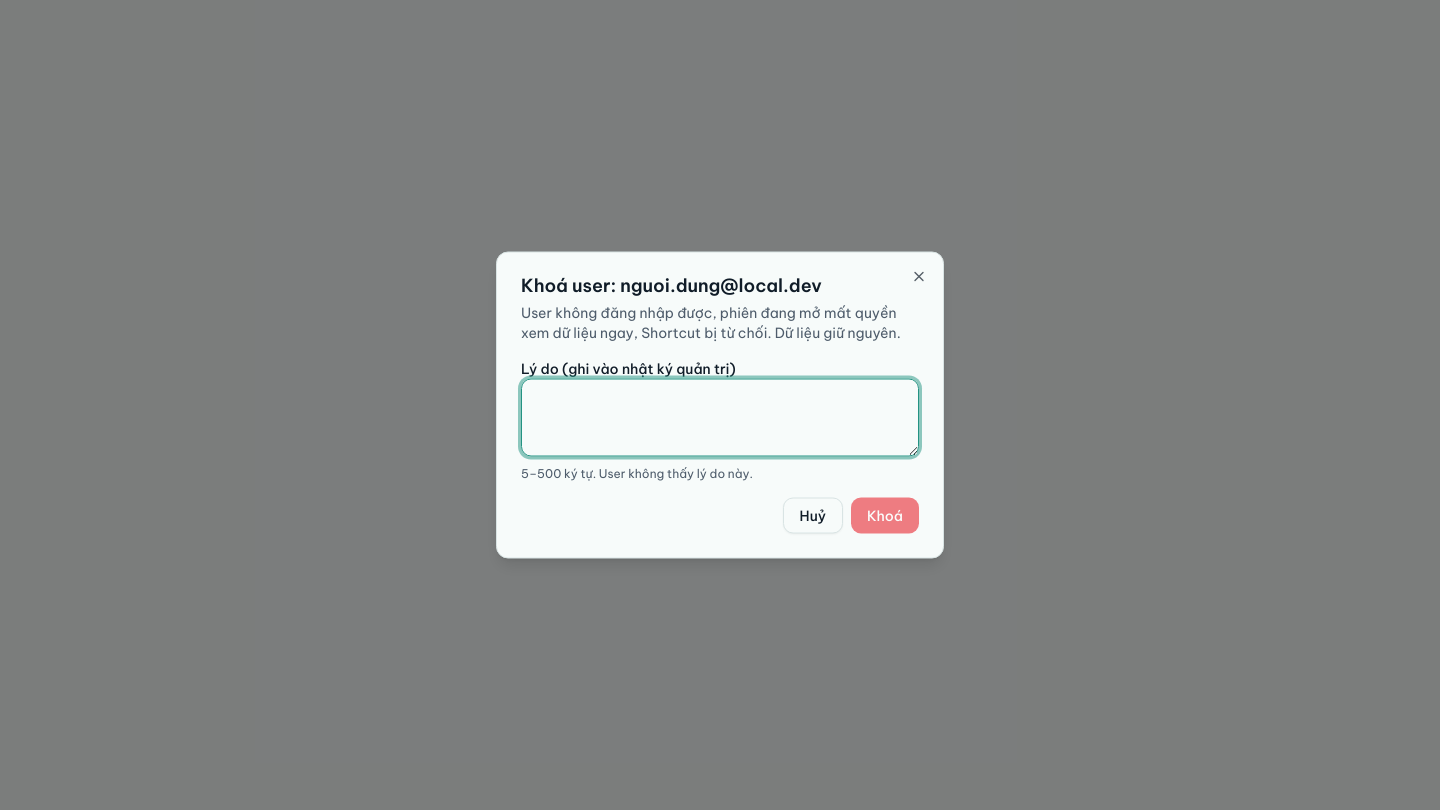
Test case: AdminActionDialog — gửi › ban_failed -> hiện thông điệp lỗi trong dialog, KHÔNG đóng, nút vẫn dùng được để bấm lại
Type "lý do đủ dài" into the text box labelled "Lý do (ghi vào nhật ký quản trị)" at (720, 418), box x1=521 y1=378 x2=919 y2=456
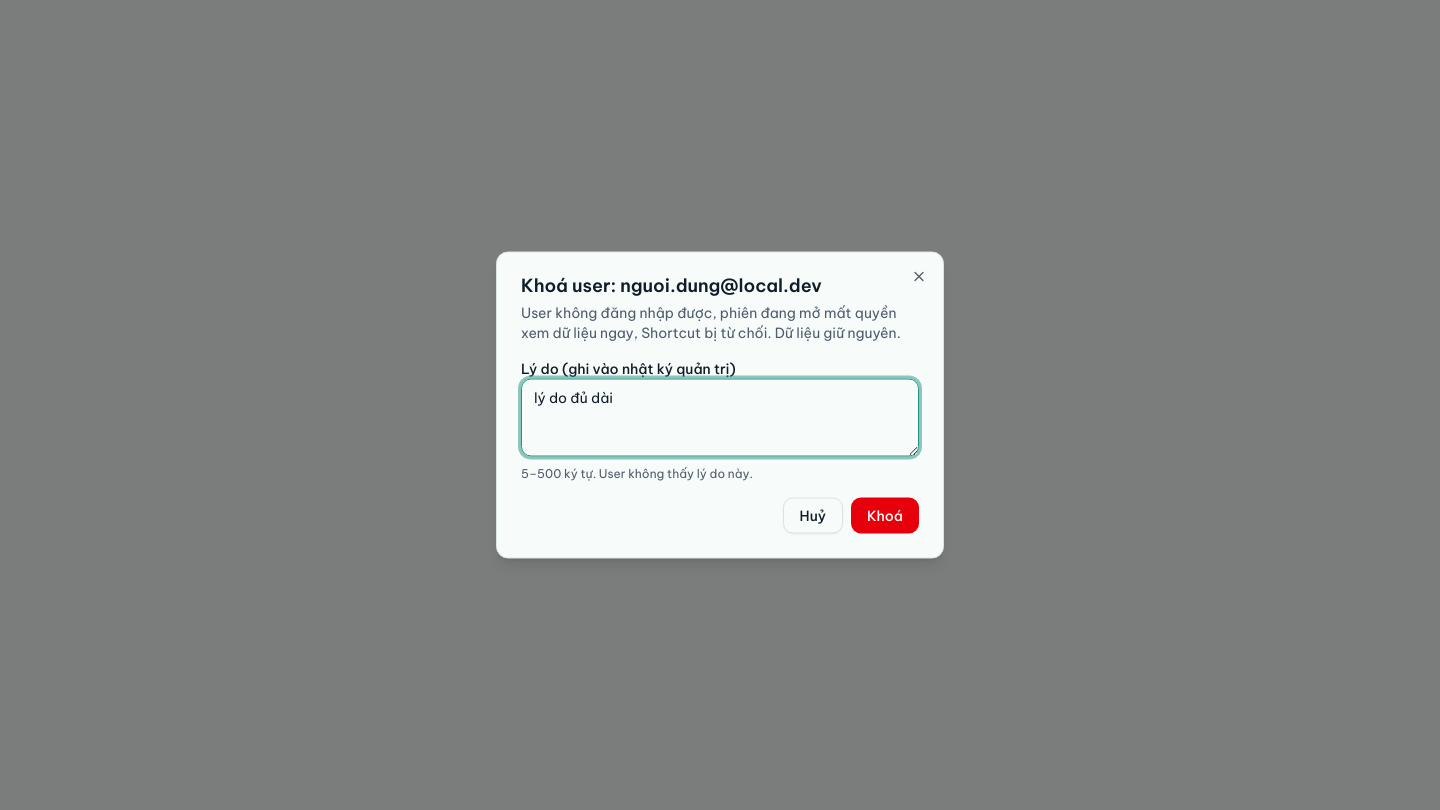
Click the button "Khoá" at (885, 516), box x1=851 y1=498 x2=919 y2=534
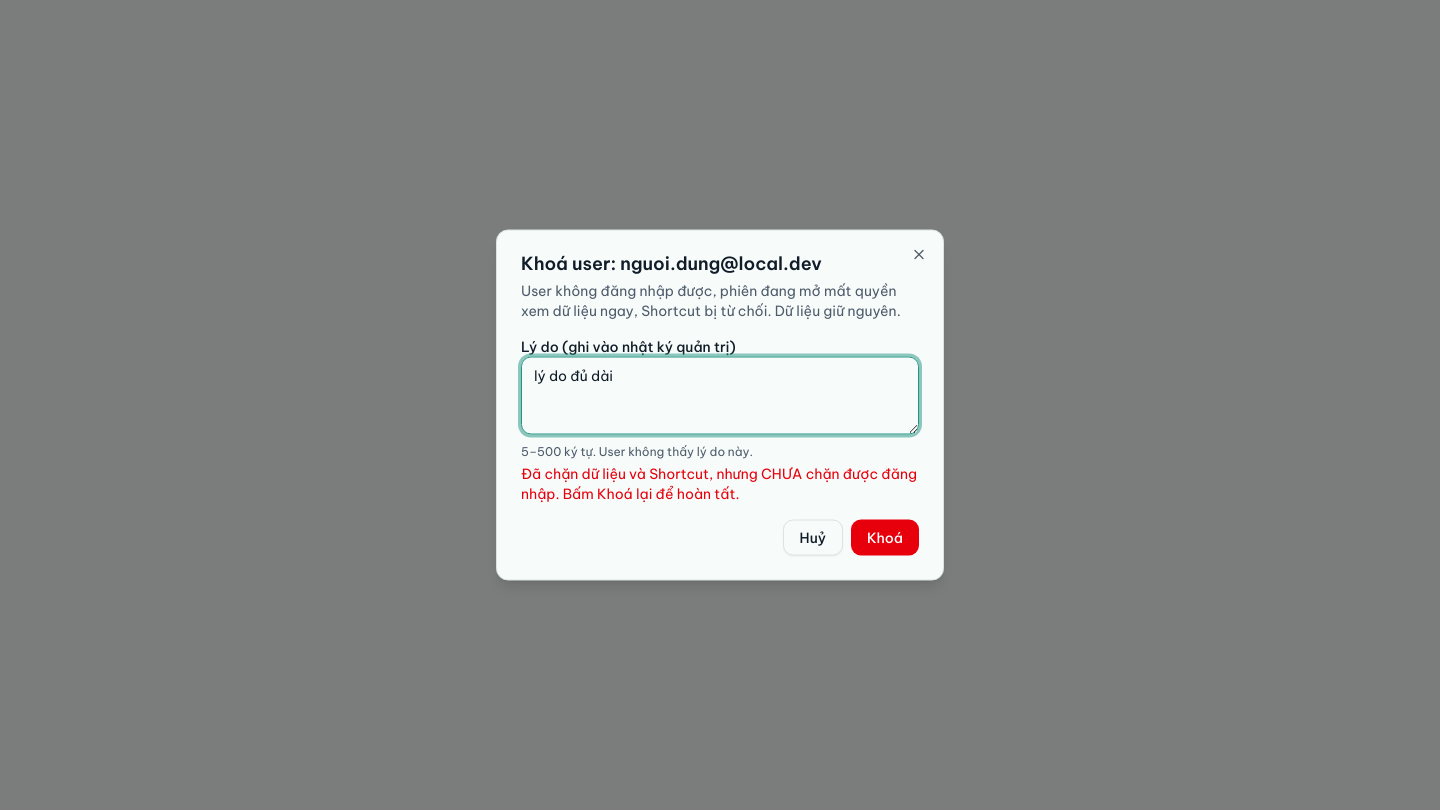
Expected: the button "Khoá" is enabled, x1=851 y1=520 x2=919 y2=556
Expected: the message shows "CHƯA chặn được đăng nhập", x1=521 y1=464 x2=917 y2=502
